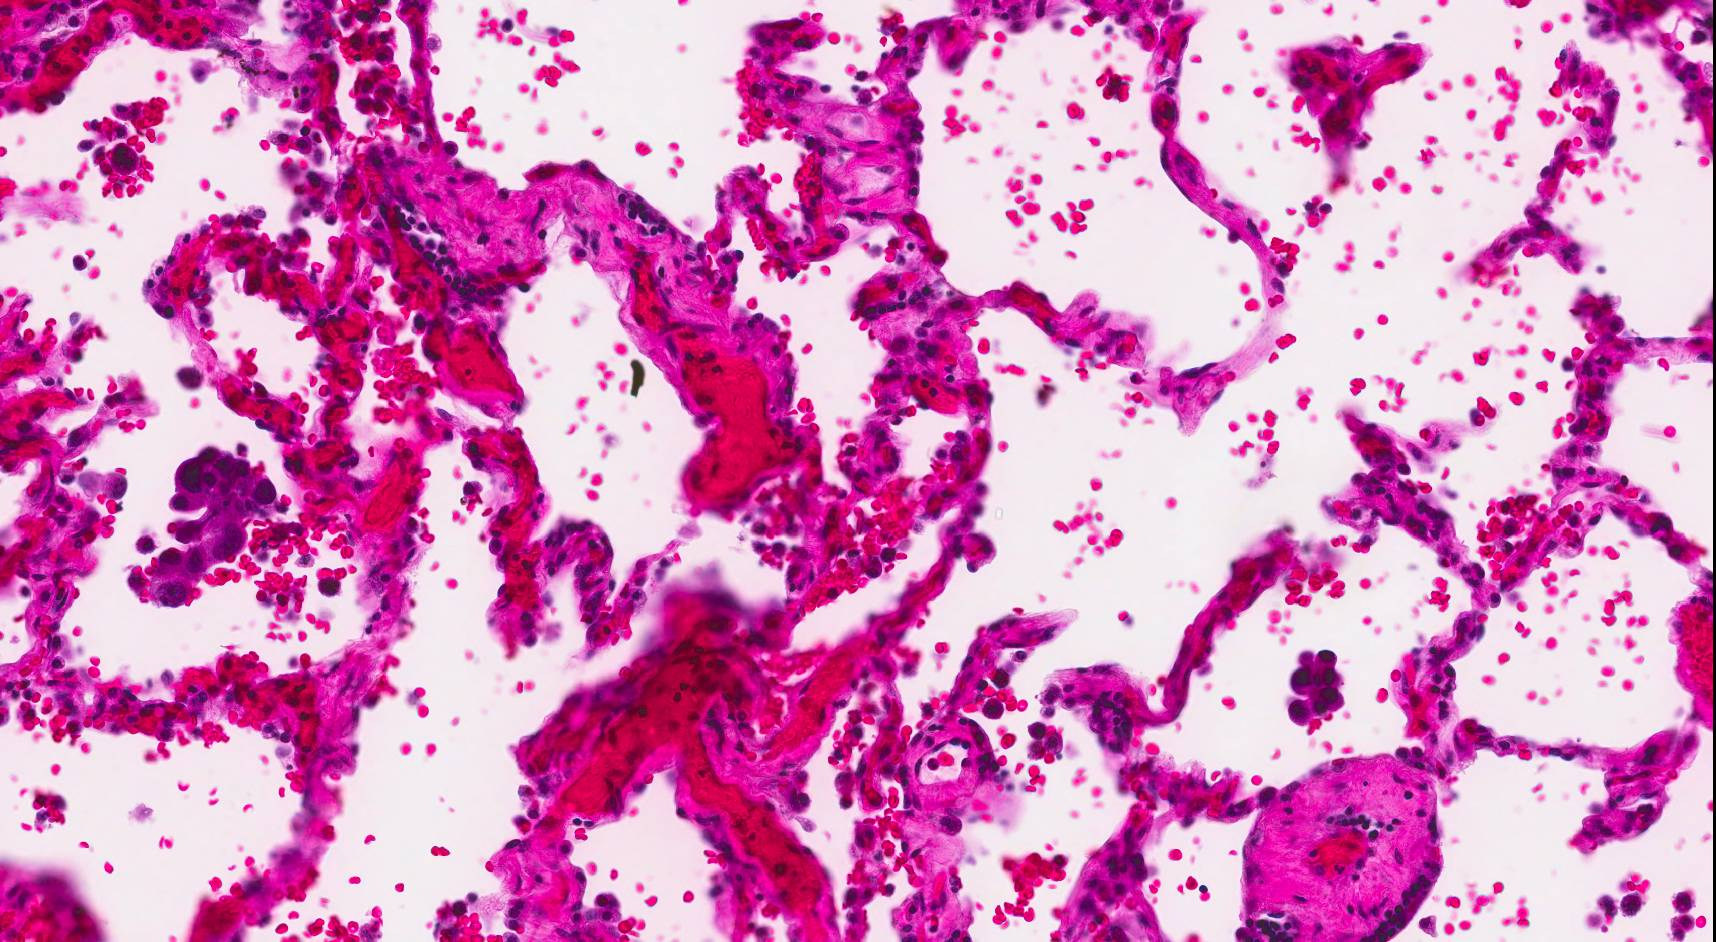stas: (130, 444, 282, 611), (1289, 647, 1346, 727)
